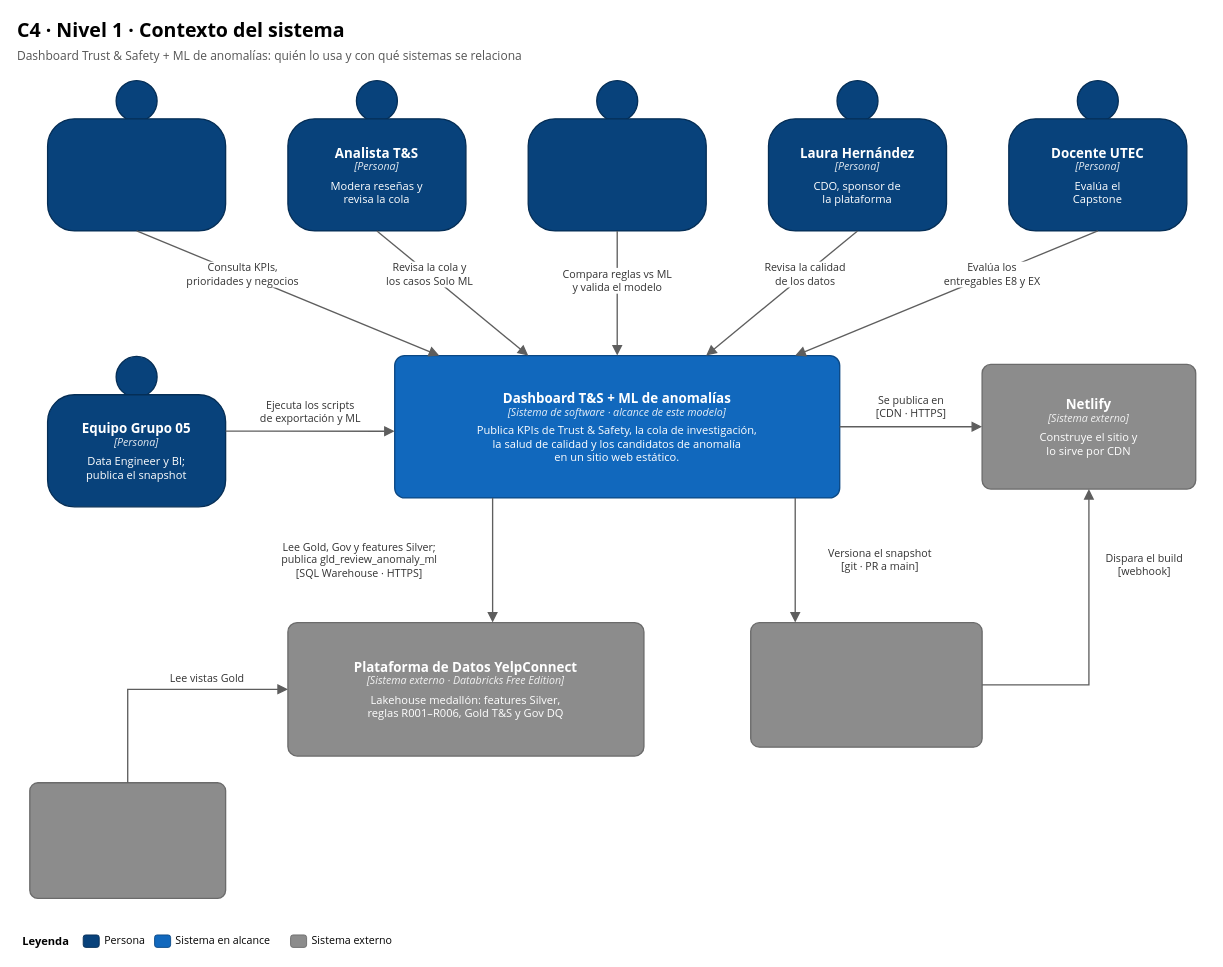
This 1223x967 diagram has some shape labels left out. Here are the shapes that lost their labels. From the top down, the box of each, then its label:
(47, 118, 226, 231): Rafael Nakamura [Persona] Head of Safety Operations (T&S)
(527, 118, 706, 231): Mei Lin [Persona] Director of Data Science
(750, 621, 982, 747): GitHub [Sistema externo] Repositorio del equipo; main dispara el despliegue
(29, 782, 226, 899): Dashboard Power BI G5 [Sistema externo] Vista alternativa sobre vistas Gold
